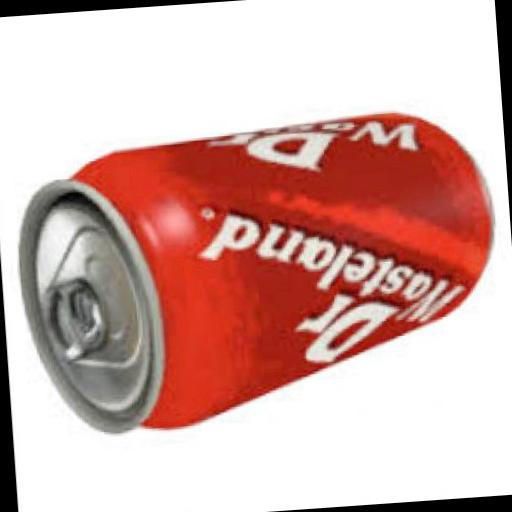metal: (10, 110, 505, 440)
